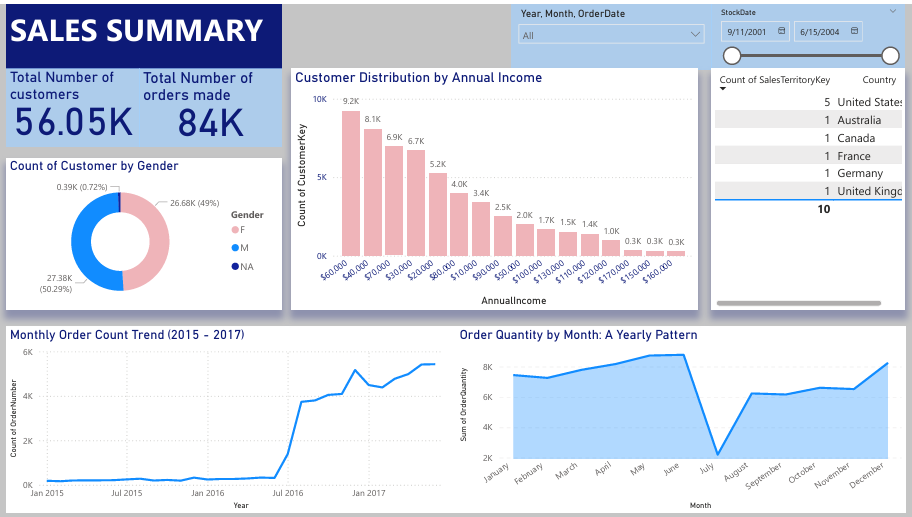

This screenshot's page, from the dashboard's own definition file:
{"tool":"powerbi","page":{"name":"Page 2","canvas":[1280,720],"ordinal":1},"visuals":[{"type":"textbox","box":[9.6,0,385.7,90.3],"z":0},{"type":"slicer","fields":{"Values":["gold extsales.OrderDate.Variation.Date Hierarchy.Year","gold extsales.OrderDate.Variation.Date Hierarchy.Month","gold extsales.OrderDate"]},"box":[716.3,0,279.9,90.6],"z":1000},{"type":"slicer","fields":{"Values":["gold extsales.StockDate"]},"box":[995.8,0,270.8,90.3],"z":2000},{"type":"card","title":"Total Number of customers","fields":{"Values":["CountNonNull(gold extsales.CustomerKey)"]},"box":[9.6,90.3,186,109.4],"z":3000},{"type":"lineChart","title":"Monthly Order Count Trend (2015 - 2017)","fields":{"Category":["gold extsales.OrderDate.Variation.Date Hierarchy.Year","gold extsales.OrderDate.Variation.Date Hierarchy.Month"],"Y":["CountNonNull(gold extsales.OrderNumber)"]},"box":[9.6,450.1,629.8,260.7],"z":4000},{"type":"areaChart","title":"Order Quantity by Month: A Yearly Pattern","fields":{"Category":["gold extsales.OrderDate.Variation.Date Hierarchy.Month"],"Y":["Sum(gold extsales.OrderQuantity)"]},"box":[638.8,450,627.8,261.3],"z":5000},{"type":"donutChart","title":"Count of Customer by Gender","fields":{"Y":["CountNonNull(gold extcustomers.CustomerKey)"],"Series":["gold extcustomers.Gender"]},"box":[9.6,214.7,385.7,212],"z":6000},{"type":"clusteredColumnChart","title":"Customer Distribution by Annual Income","fields":{"Y":["CountNonNull(gold extcustomers.CustomerKey)"],"Category":["gold extcustomers.AnnualIncome"]},"box":[409,90.3,567.6,336.5],"z":7000},{"type":"card","title":"Total Number of orders made","fields":{"Values":["Sum(gold extsales.OrderQuantity)"]},"box":[195.6,90.3,199.7,109.4],"z":8000},{"type":"tableEx","fields":{"Values":["CountNonNull(gold extTerritories.SalesTerritoryKey)","gold extTerritories.Country"]},"box":[995.8,90.3,270.8,336.5],"z":9000}]}

Visuals, with their boxes in screenshot pixels (x1, y1, x2, y2), scaled from the page's 1280x720 canvas onto the 912x517 screenshot:
textbox: region(7, 0, 282, 65)
slicer - gold extsales.OrderDate.Variation.Date Hierarchy.Year x gold extsales.OrderDate.Variation.Date Hierarchy.Month: region(510, 0, 710, 65)
slicer - gold extsales.StockDate: region(710, 0, 902, 65)
"Total Number of customers" card: region(7, 65, 139, 143)
"Monthly Order Count Trend (2015 - 2017)" lineChart: region(7, 323, 456, 510)
"Order Quantity by Month: A Yearly Pattern" areaChart: region(455, 323, 902, 511)
"Count of Customer by Gender" donutChart: region(7, 154, 282, 306)
"Customer Distribution by Annual Income" clusteredColumnChart: region(291, 65, 696, 306)
"Total Number of orders made" card: region(139, 65, 282, 143)
tableEx - CountNonNull(gold extTerritories.SalesTerritoryKey) x gold extTerritories.Country: region(710, 65, 902, 306)
